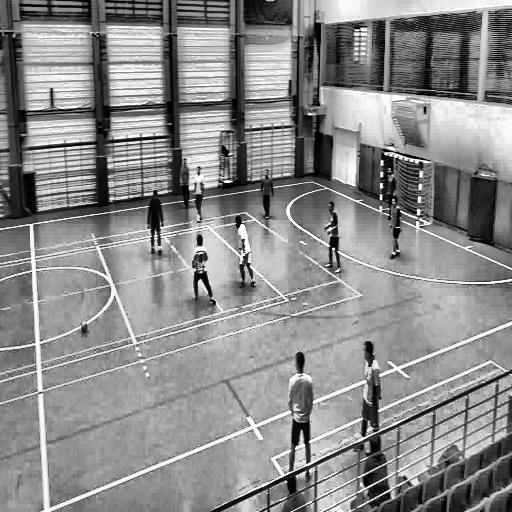ball: (80, 319, 90, 335)
player: (284, 345, 314, 482), (354, 338, 382, 453), (233, 211, 258, 291), (191, 232, 217, 308), (322, 198, 343, 276), (145, 188, 166, 260), (389, 194, 403, 264), (178, 155, 192, 212), (194, 162, 206, 227), (383, 163, 396, 219)
